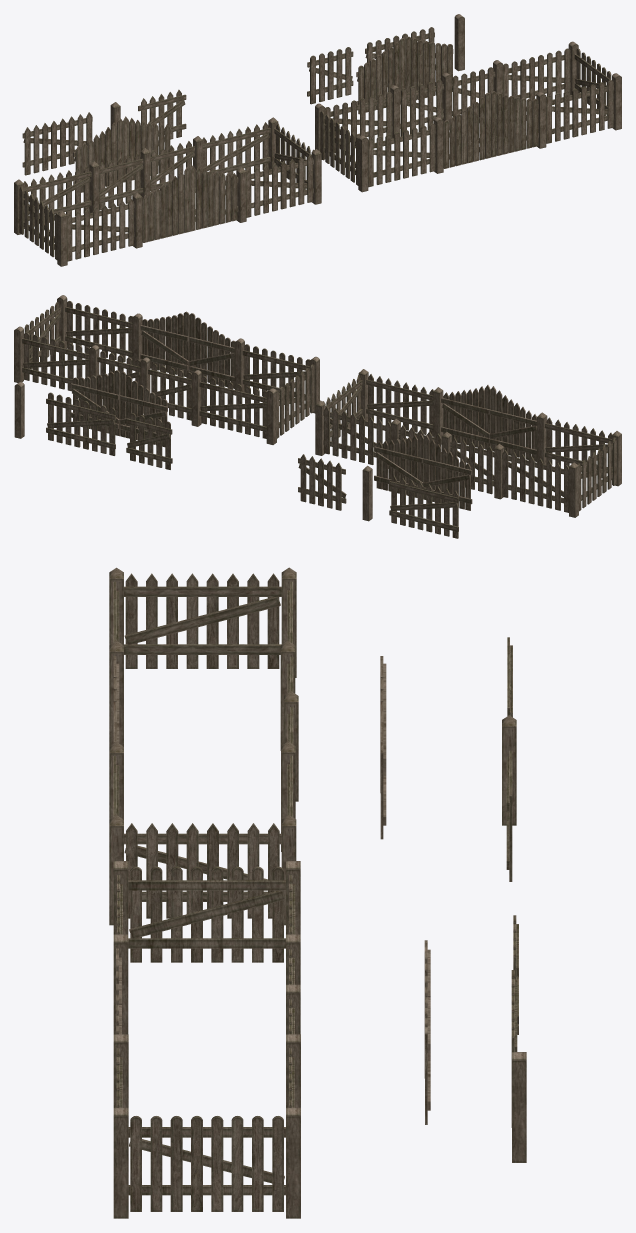
The model's file is fence_picket.glb.
3 renders of one model, top to bottom at view 1: azimuth 30°, elevation 25°; view 2: azimuth 150°, elevation 25°; view 3: azimuth 270°, elevation 25°, orthographic. The views are drawn at different scales.
Visible parts, largest first — view 1: dock; view 2: dock; view 3: dock.
Part boxes in pixels (box(x1,y1,x2,y2)): dock: box(14, 14, 621, 266); dock: box(14, 295, 621, 538); dock: box(109, 567, 526, 1218).
Size of the model in its own units: 18.3 by 2.11 by 5.91.
Materials: 5 (5 with a texture image).
